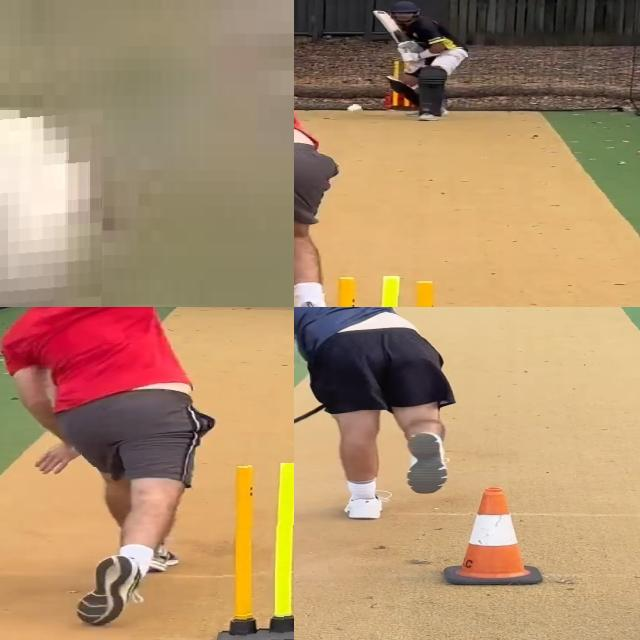Cricket ball: (0, 109, 103, 307), (346, 104, 363, 114)
Stumps: (216, 463, 294, 640)
